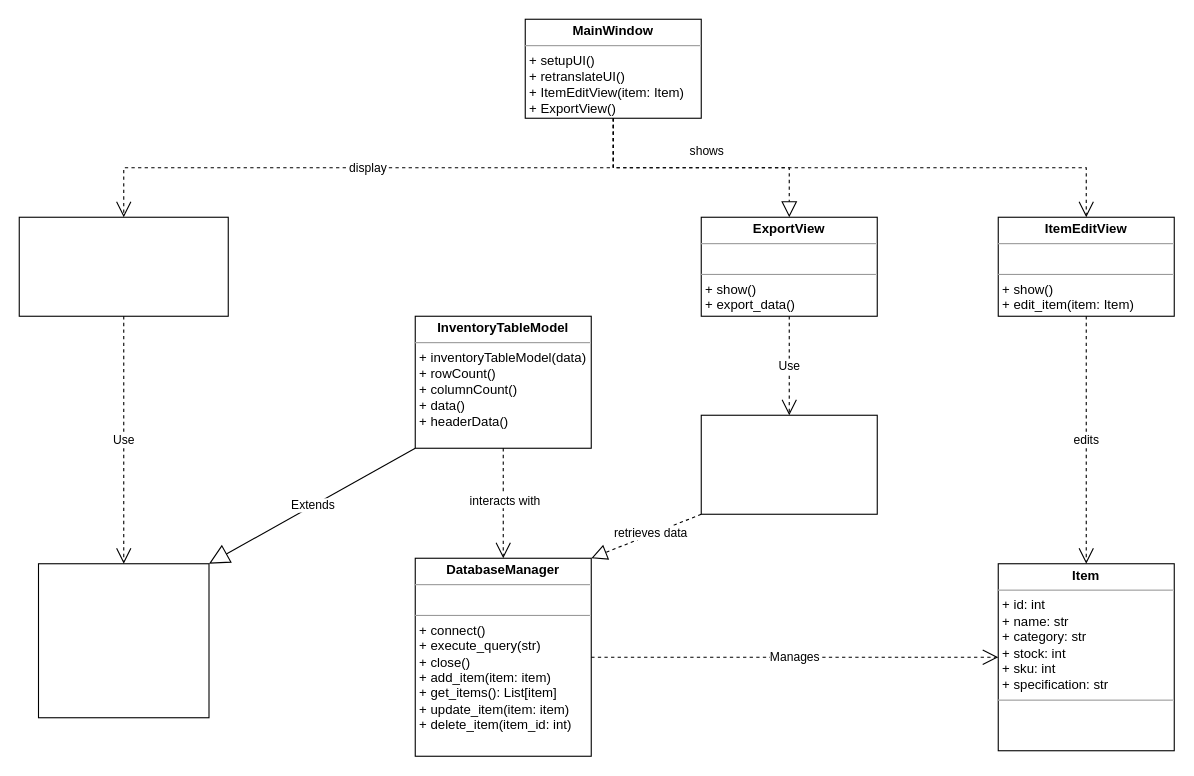
Image size: 1194x776. Some labels were removed from this diagram. The centre of each missing label's shape, as x and y in pixels:
"ExportManager + export_data_to_csv(): data" goes at point 788,464.
"QAbstractTableModel + rowCount() + columnCount() + data() + headerData()" goes at point 123,640.
"QTableView + setModel(QAbstractTableModel)" goes at point 123,266.
